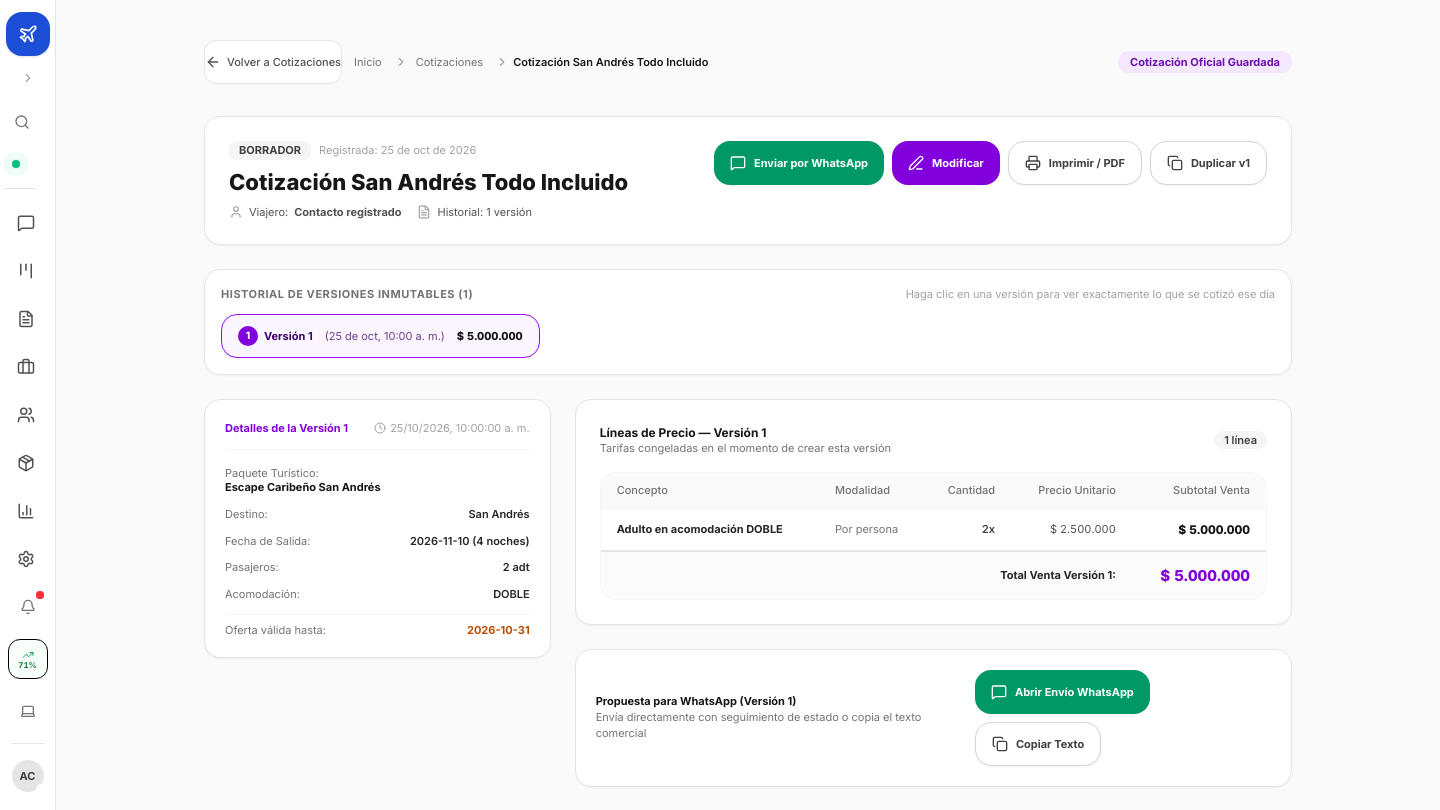
Test: PaginaCotizacionGuardada (Detalle T-107) › abre el modal de WhatsApp al hacer clic en Enviar por WhatsApp
Click the button with test id "btn-abrir-modal-whatsapp".
click(799, 163)  # box x1=714 y1=141 x2=884 y2=185
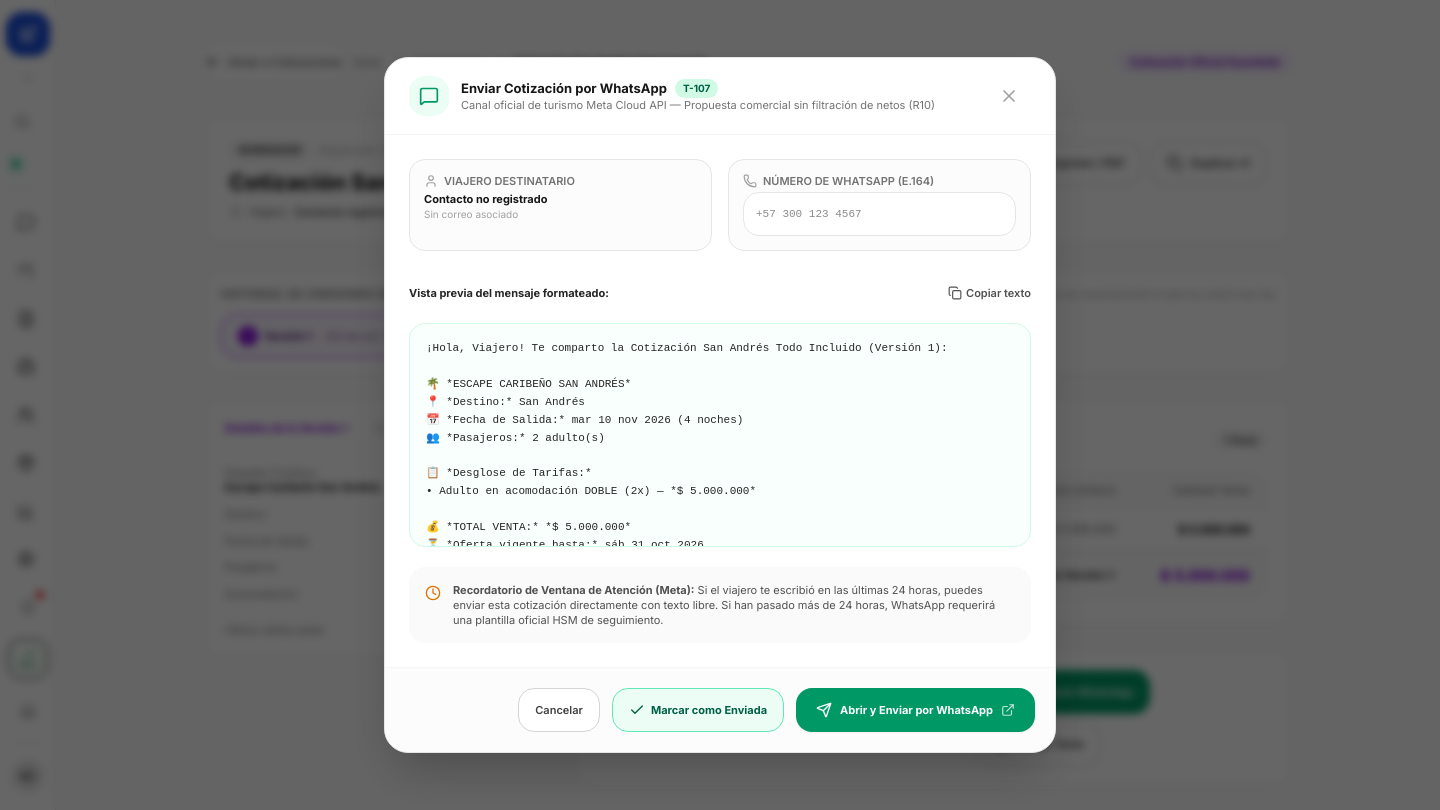
Expected: the dialog is shown
Expected: the heading "Enviar Cotización por WhatsApp" is shown, x1=461 y1=79 x2=667 y2=98
